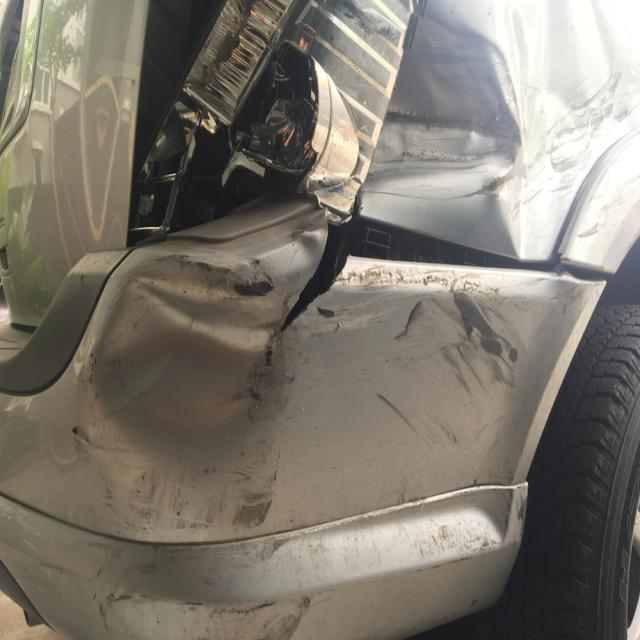crack: (278, 220, 348, 339)
dent: (357, 0, 640, 263), (85, 258, 295, 474)
scratch: (90, 426, 313, 640), (329, 269, 532, 458)
